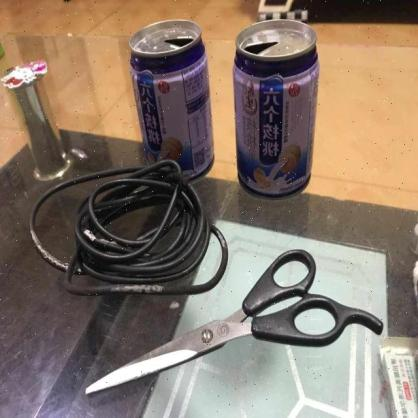can: (233, 18, 318, 199), (129, 21, 209, 182)
